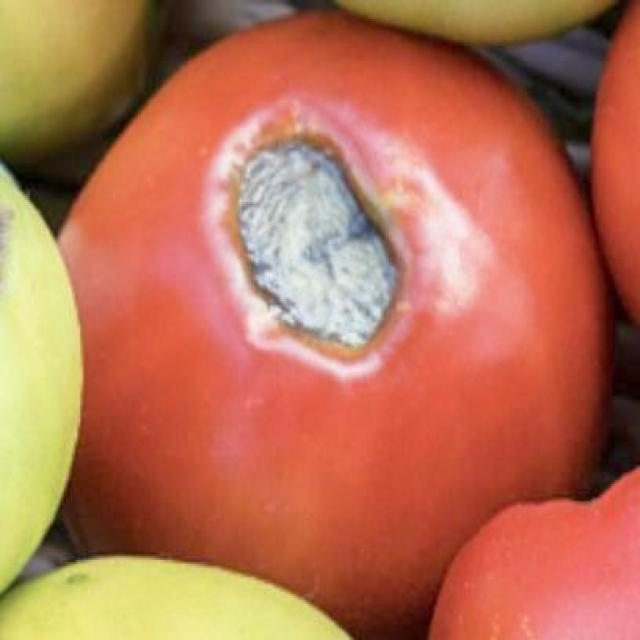Blossom End Rot Fruit: (141, 68, 276, 250)
